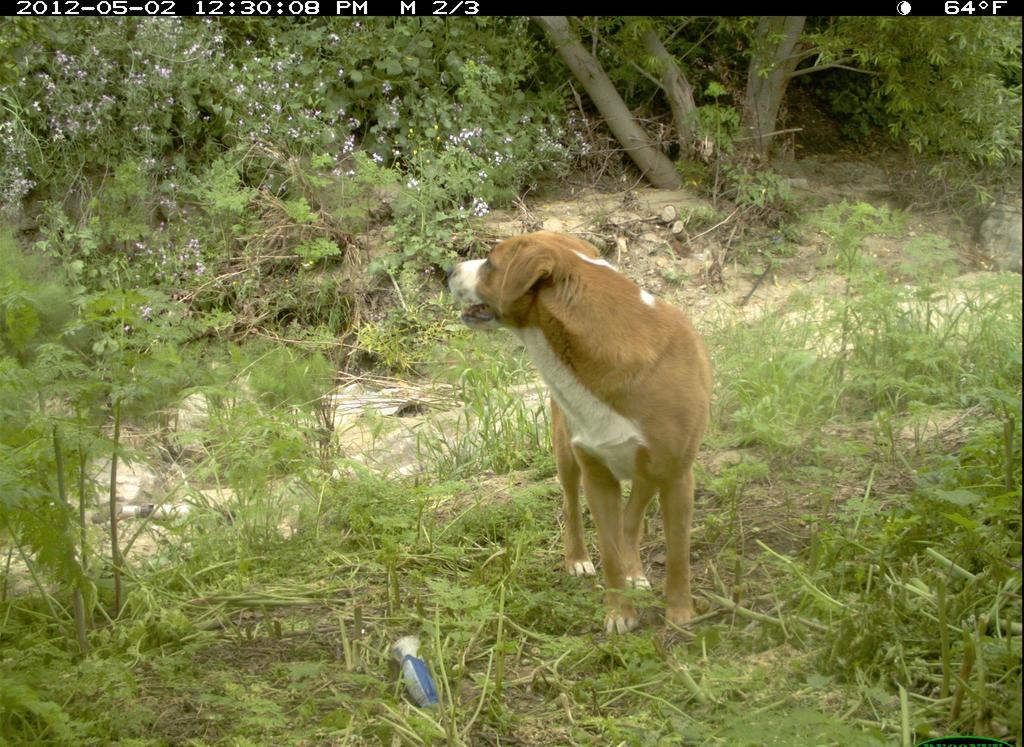dog: (438, 226, 722, 646)
